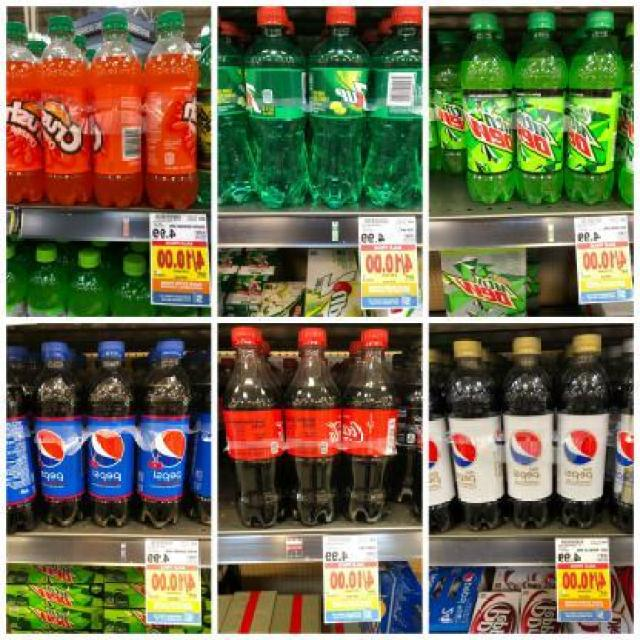Drinks: (246, 5, 308, 208), (309, 5, 371, 208), (223, 328, 283, 529), (362, 7, 422, 207), (564, 12, 624, 205), (134, 338, 192, 530), (286, 328, 342, 526), (447, 338, 504, 532), (555, 333, 611, 529), (342, 328, 398, 522), (502, 335, 556, 531), (461, 11, 513, 207), (513, 11, 565, 207), (32, 341, 85, 528), (84, 340, 134, 528)
